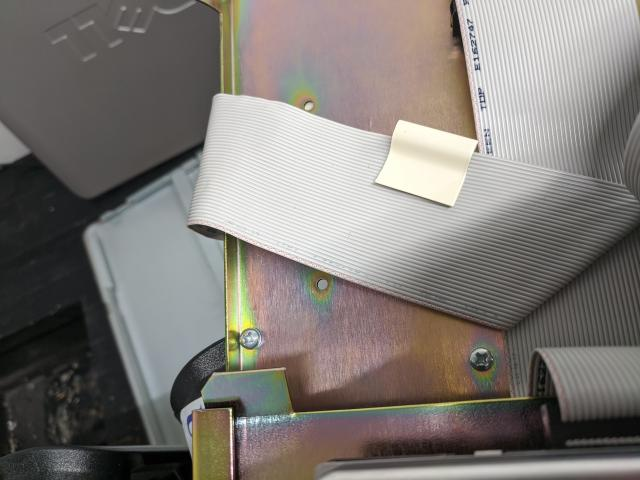CRS: (472, 346, 494, 370), (238, 328, 258, 349)
